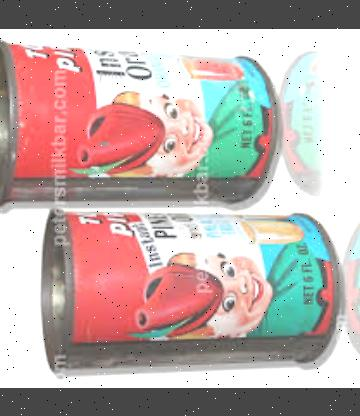Can: (41, 208, 338, 379), (0, 38, 274, 205)
